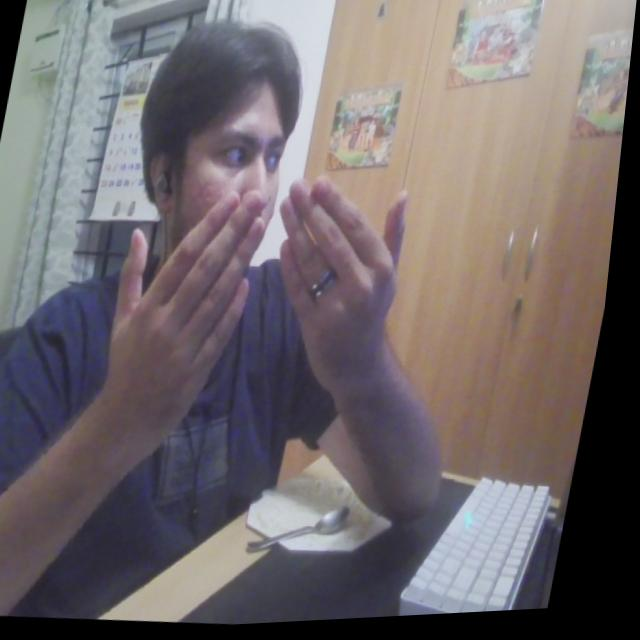thankyou: (89, 151, 431, 465)
